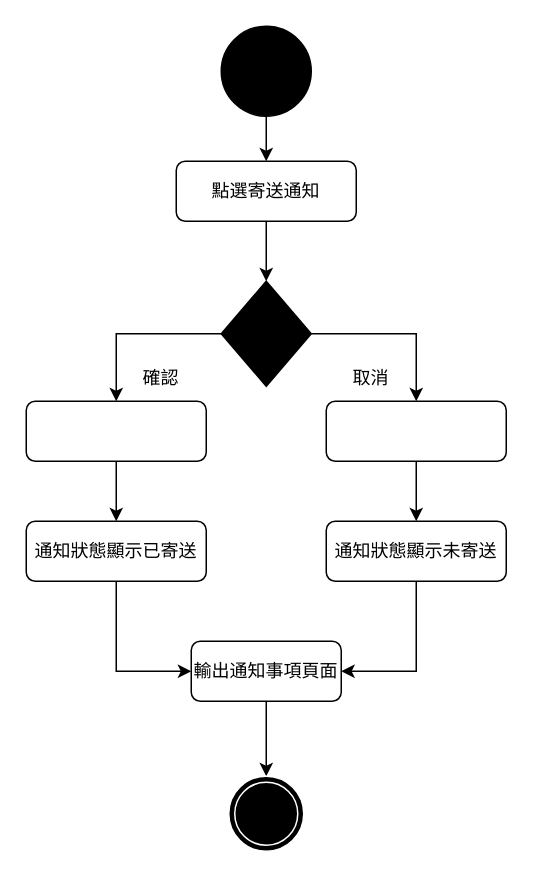
Some shapes in this 533 by 878 pixel diagram are drawn without their labels. The shapes that lost their labels are listed below. From the top down, each one's centre as x and y in pixels, then its label:
At point (115, 430): "寄送通知成功".
At point (415, 430): "寄送通知失敗".
